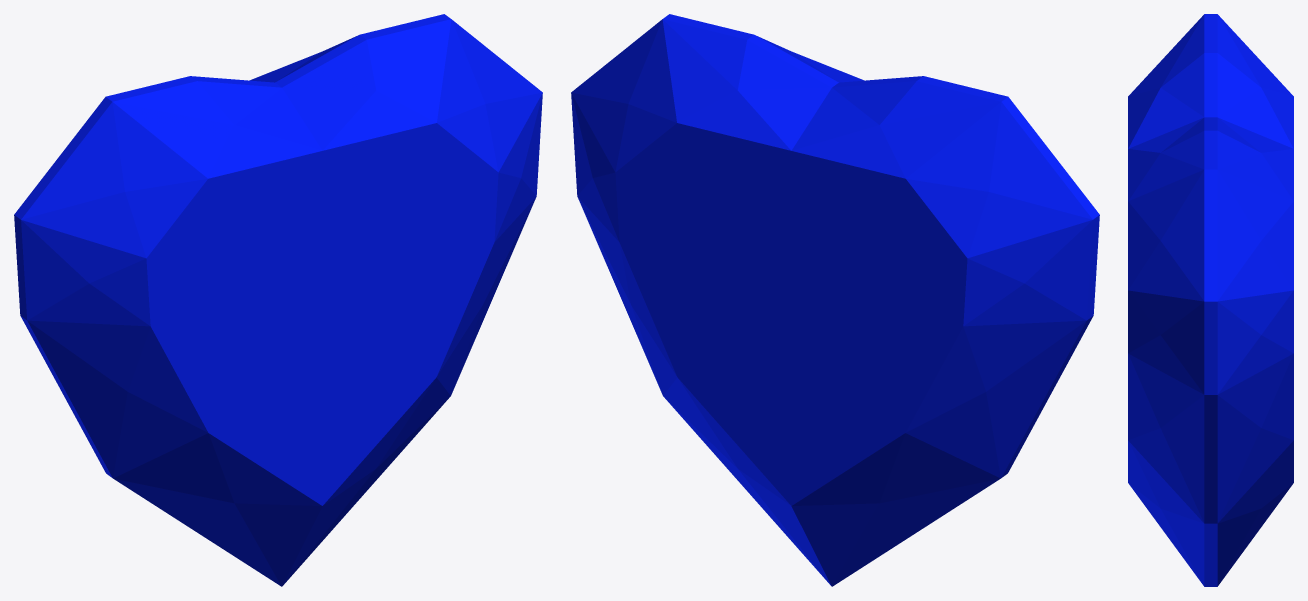
Rendered from jewel_blue (merge).fbx.
3 views of the same model, side by side, from view 1: azimuth 30°, elevation 25°; view 2: azimuth 150°, elevation 25°; view 3: azimuth 270°, elevation 25° (orthographic). The views are drawn at different scales.
Visible parts, largest first — view 1: jewel_blue; view 2: jewel_blue; view 3: jewel_blue.
Part boxes in pixels (x1=…): jewel_blue: x1=14, y1=14, x2=542, y2=586; jewel_blue: x1=571, y1=14, x2=1099, y2=586; jewel_blue: x1=1128, y1=14, x2=1293, y2=586.
Size of the model in its own units: 0.5829 by 0.562 by 0.1704.
